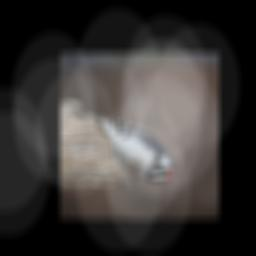Woodpecker: (70, 103, 176, 183)
